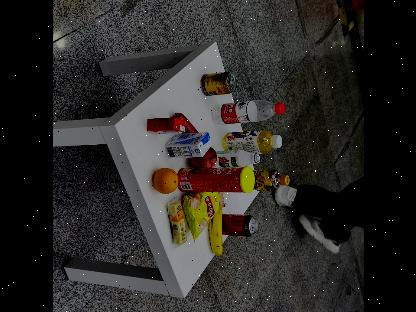Can: (200, 73, 236, 97), (223, 214, 257, 239)
Others: (171, 168, 253, 194), (157, 132, 213, 160), (142, 115, 184, 137)
Plastic Bottle: (209, 100, 286, 124)
